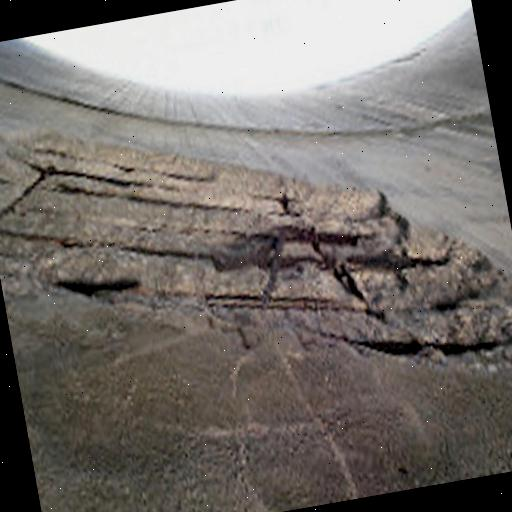spalling: (0, 132, 512, 370)
